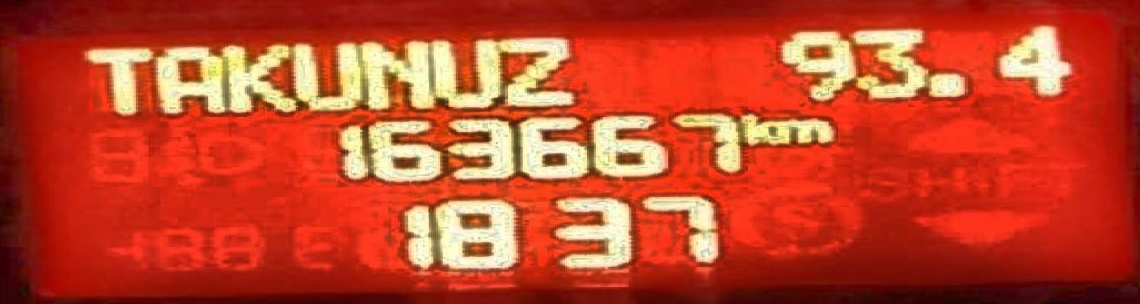-: (926, 67, 971, 98)
1: (400, 199, 431, 269), (333, 119, 362, 180)
3: (549, 193, 633, 272), (849, 24, 929, 98), (445, 114, 516, 180)
4: (989, 23, 1078, 97)
6: (589, 112, 667, 178), (364, 117, 442, 182), (515, 114, 589, 179)
7: (640, 191, 720, 264), (669, 109, 740, 174)
8: (436, 197, 518, 271)
9: (775, 25, 851, 103)
X: (76, 40, 147, 119), (429, 33, 502, 108), (502, 33, 575, 105), (156, 43, 225, 117), (362, 38, 429, 112), (224, 39, 289, 113), (293, 39, 360, 110), (774, 114, 836, 145), (740, 110, 773, 148)
